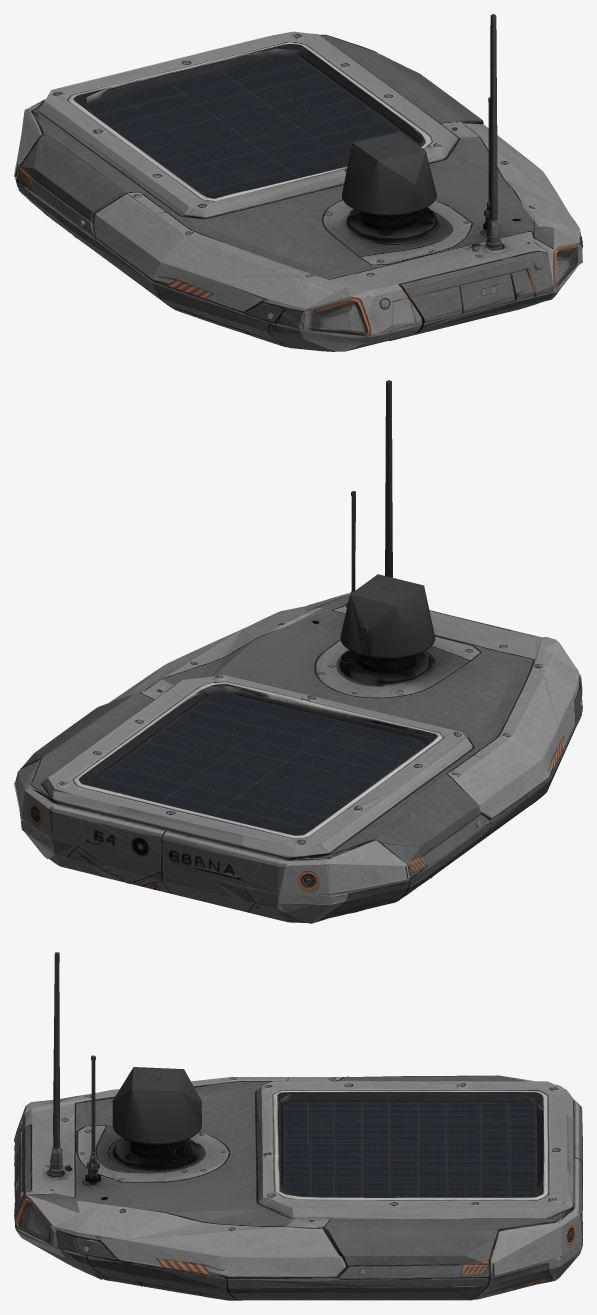
The model's file is roof.glb.
3 views of the same model, one above another, from view 1: azimuth 30°, elevation 25°; view 2: azimuth 150°, elevation 25°; view 3: azimuth 270°, elevation 25° (orthographic). The views are drawn at different scales.
Size of the model in its own units: 0.7697 by 0.5681 by 1.
1 material, 1 textured.
